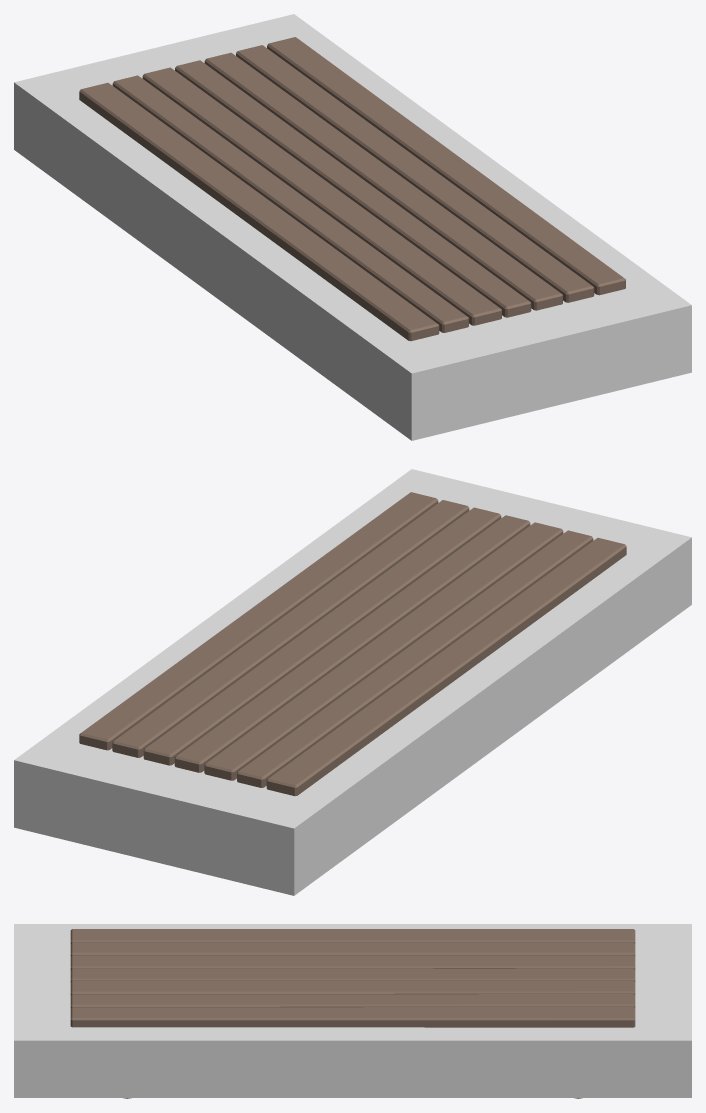
Rendered from FloatingDock.fbx.
3 renders of one model, top to bottom at view 1: azimuth 30°, elevation 25°; view 2: azimuth 150°, elevation 25°; view 3: azimuth 270°, elevation 25°, orthographic. The views are drawn at different scales.
Parts seen in each view (by area): view 1: DockVolume, FloatingDock; view 2: DockVolume, FloatingDock; view 3: DockVolume, FloatingDock.
Part boxes in pixels (x1=…): DockVolume: x1=14, y1=14, x2=691, y2=440; FloatingDock: x1=79, y1=37, x2=625, y2=341; DockVolume: x1=14, y1=469, x2=691, y2=895; FloatingDock: x1=79, y1=492, x2=626, y2=796; DockVolume: x1=14, y1=924, x2=691, y2=1097; FloatingDock: x1=70, y1=929, x2=635, y2=1027.
Size of the model in its own units: 3.42 by 1.08 by 8.42.
1 material, 1 textured.
